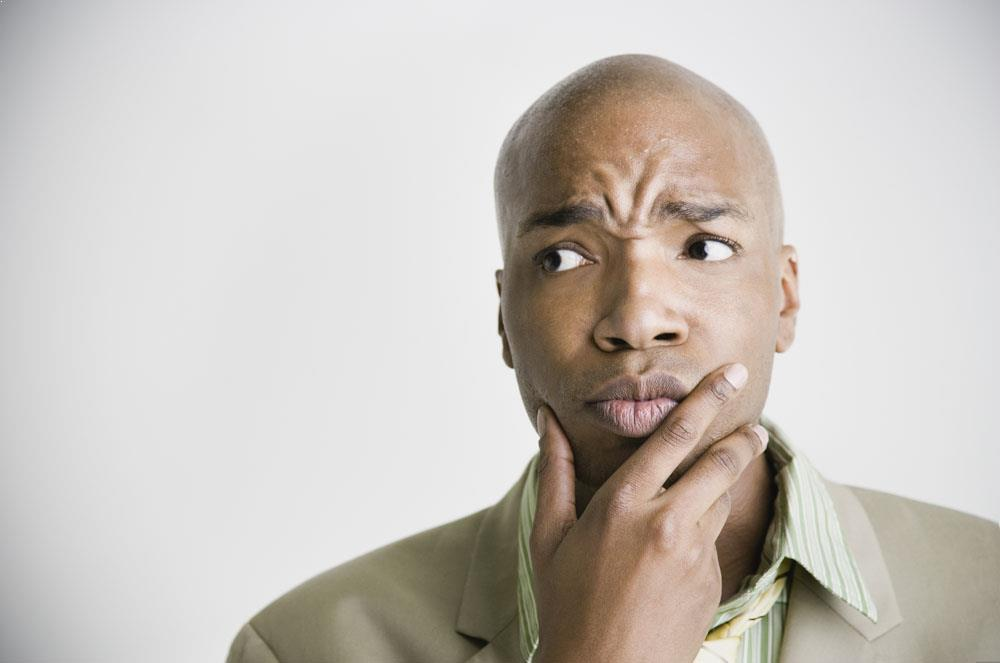confused: (485, 131, 806, 468)
